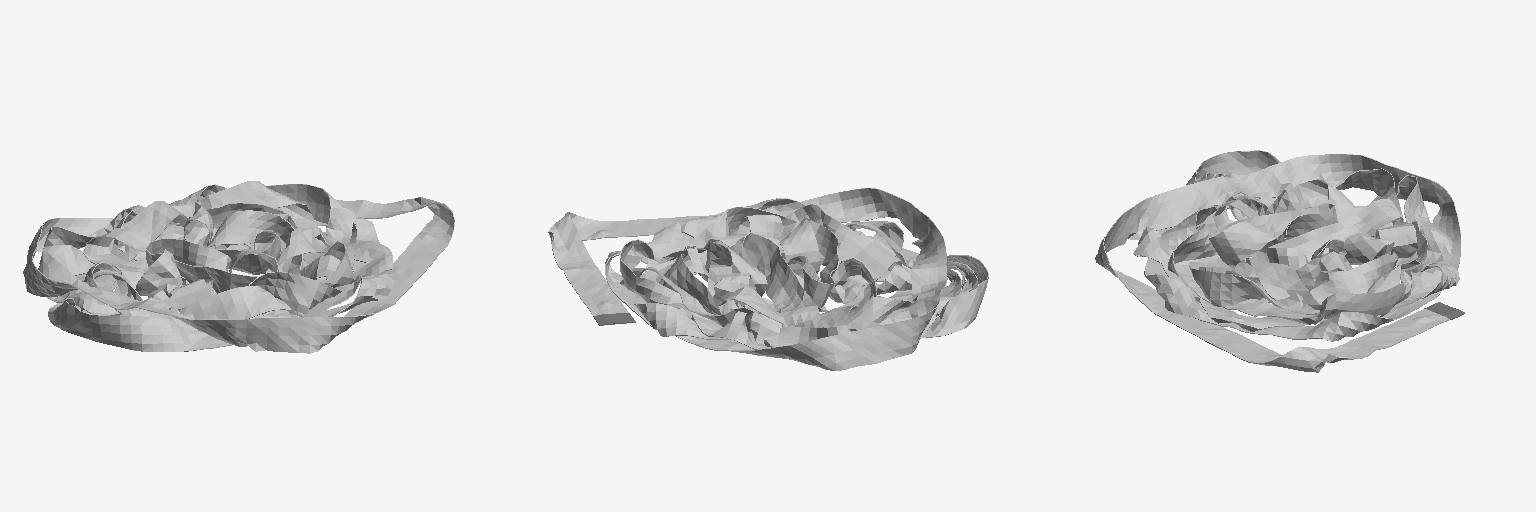
File: METRE.obj
The picture shows the model from 3 angles: view 1: azimuth 30°, elevation 25°; view 2: azimuth 150°, elevation 25°; view 3: azimuth 270°, elevation 25°; orthographic projection.
Visible parts, largest first — view 1: METRE_Mesh; view 2: METRE_Mesh; view 3: METRE_Mesh.
Part boxes in pixels (x1,y1,x2,y2): METRE_Mesh: (23,181,454,353); METRE_Mesh: (548,188,988,370); METRE_Mesh: (1095,150,1464,372).
Size of the model in its own units: 0.4053 by 0.0453 by 0.3227.